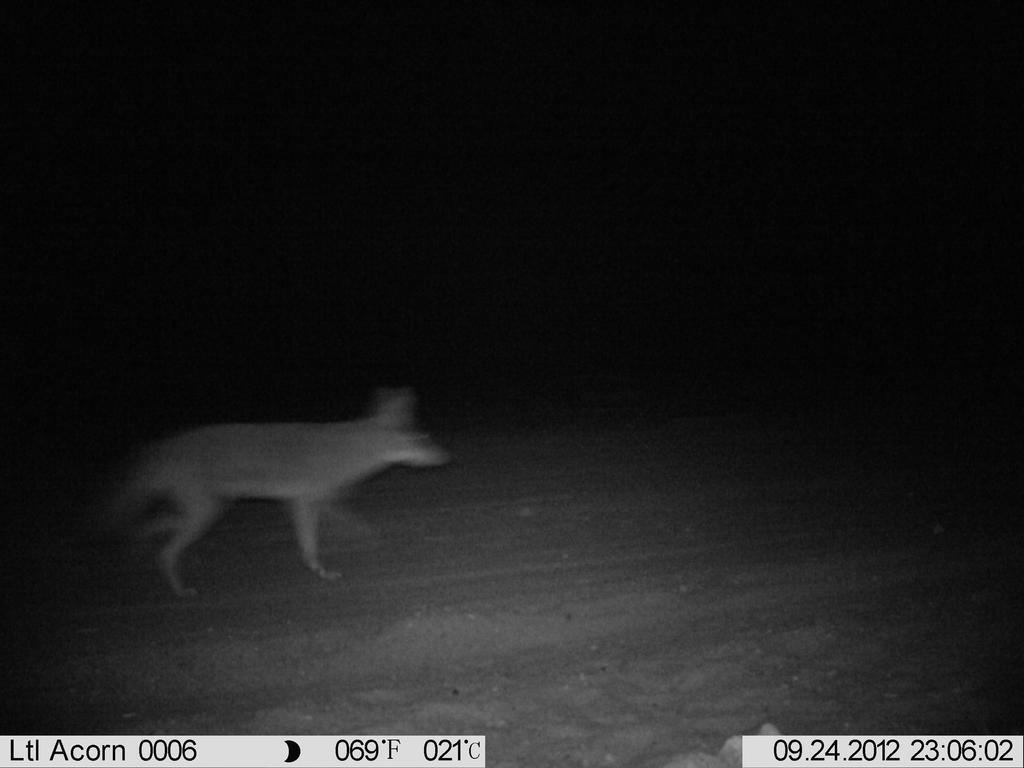coyote: (66, 379, 461, 605)
